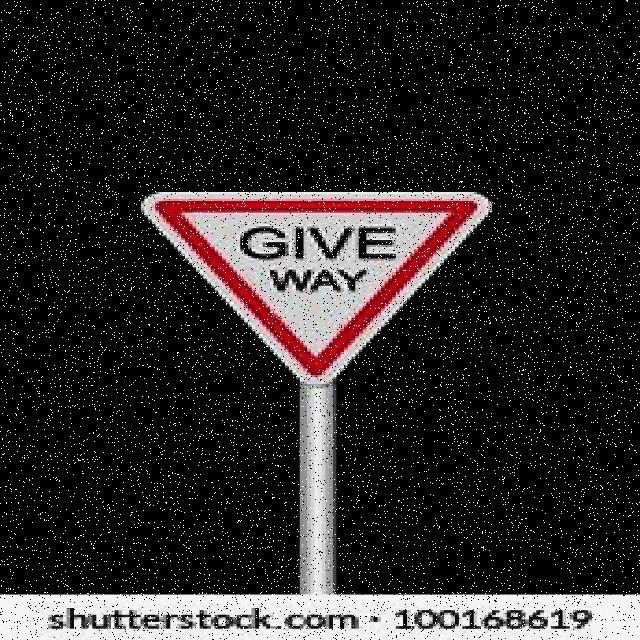Traffic sign: (133, 183, 499, 390)
